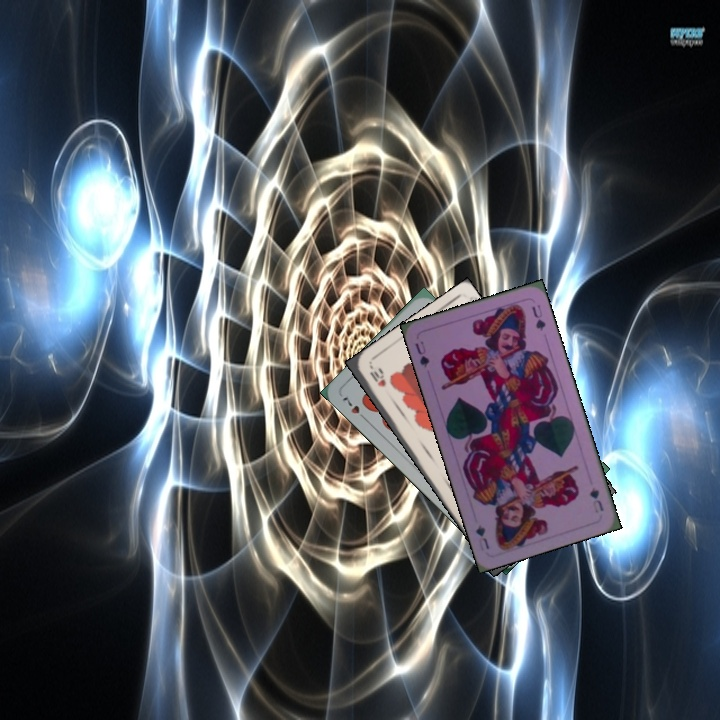GU: (411, 337, 432, 370), (586, 483, 606, 516)
H10: (365, 362, 388, 389)
H7: (338, 393, 370, 424)
